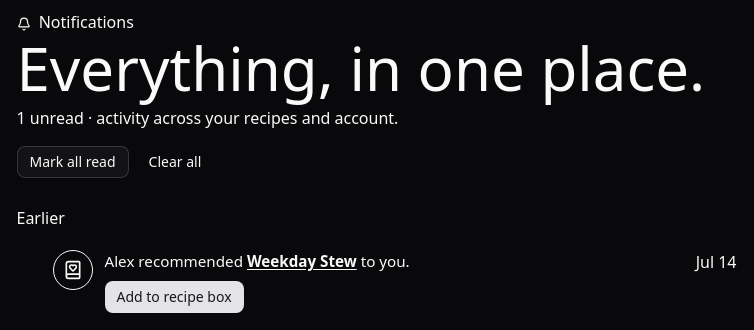
Scenario: NotificationsView › adds a recommended recipe to the recipe box
Click the button "Add to recipe box" at (174, 297), box [104, 281, 244, 313]
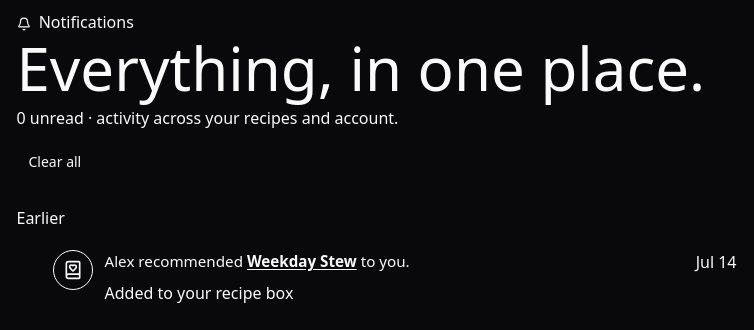
Expected: the text "Added to your recipe box" is shown, [104, 282, 293, 304]
Expected: the text "0 unread · activity across your recipes and account." is shown, [16, 107, 398, 129]
